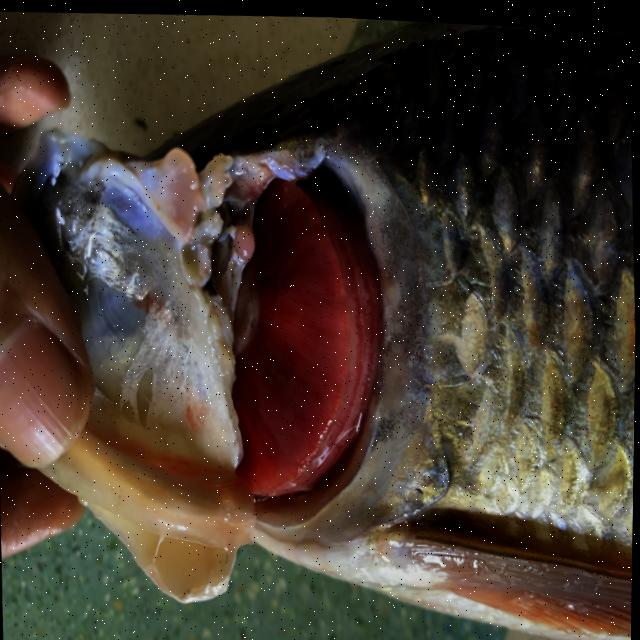Fresh: (188, 66, 406, 557)
